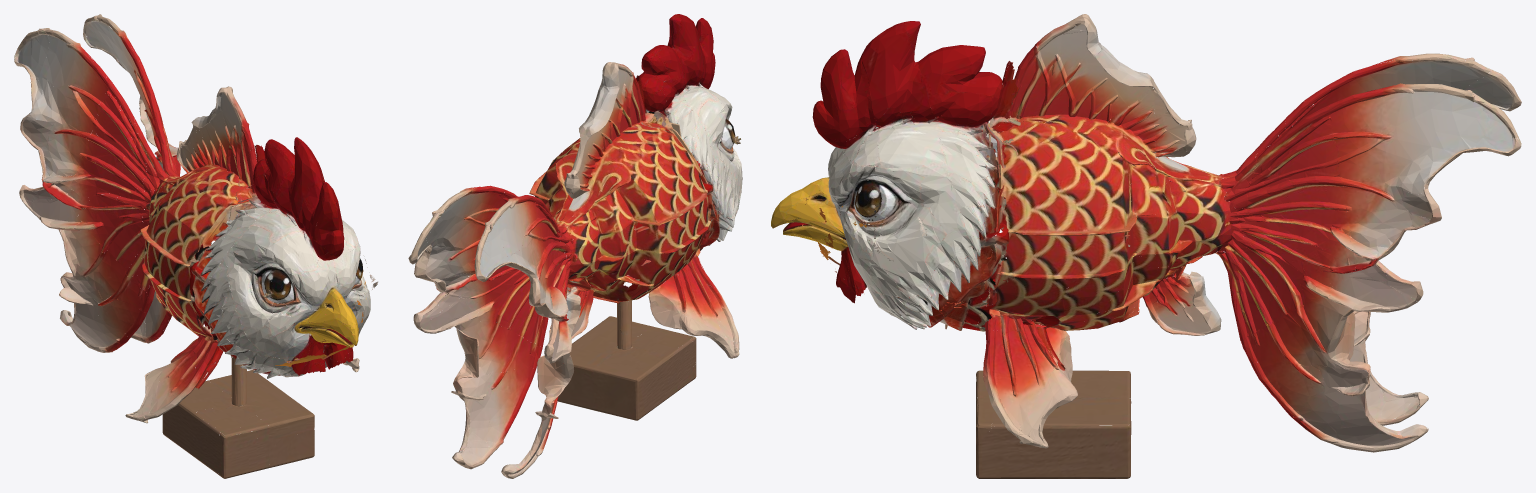
The model's file is gatling_src.glb.
3 renders of one model, left to right at view 1: azimuth 30°, elevation 25°; view 2: azimuth 150°, elevation 25°; view 3: azimuth 270°, elevation 25°, orthographic. The views are drawn at different scales.
Visible parts, largest first — view 1: tripo_node_38ad0bef-af21-4ec7-ae87-128b33711ff6, edited_head; view 2: tripo_node_38ad0bef-af21-4ec7-ae87-128b33711ff6, edited_head; view 3: tripo_node_38ad0bef-af21-4ec7-ae87-128b33711ff6, edited_head.
Boxes of the visible parts, <box> form: tripo_node_38ad0bef-af21-4ec7-ae87-128b33711ff6: <box>14,14,377,478</box>; edited_head: <box>188,137,370,388</box>; tripo_node_38ad0bef-af21-4ec7-ae87-128b33711ff6: <box>408,62,739,478</box>; edited_head: <box>549,14,742,301</box>; tripo_node_38ad0bef-af21-4ec7-ae87-128b33711ff6: <box>802,14,1521,478</box>; edited_head: <box>771,21,1131,370</box>.
Bounding box in the file's own units: 0.4573 × 0.6575 × 1.03.
Materials: 2 (2 with a texture image).
